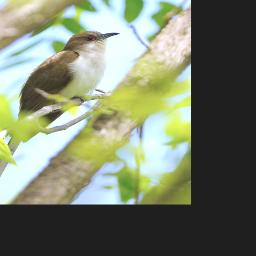Cuckoo: (0, 29, 121, 194)
